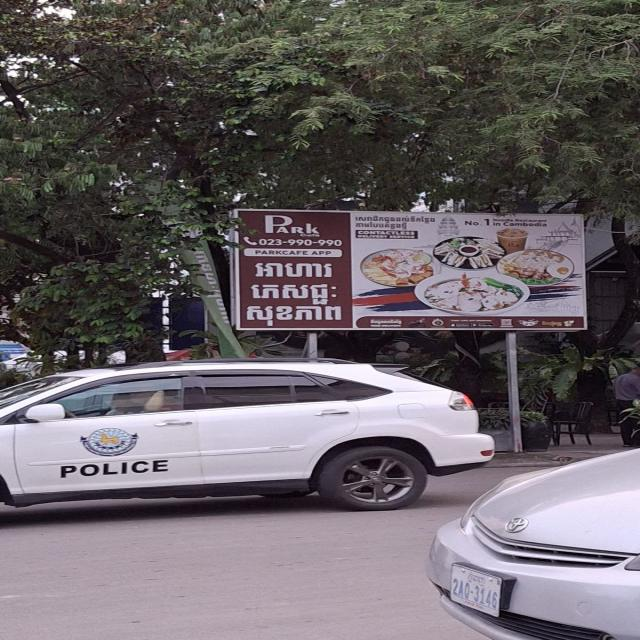Yolov11kh: (207, 302, 374, 328), (229, 279, 355, 304), (235, 252, 346, 279)
